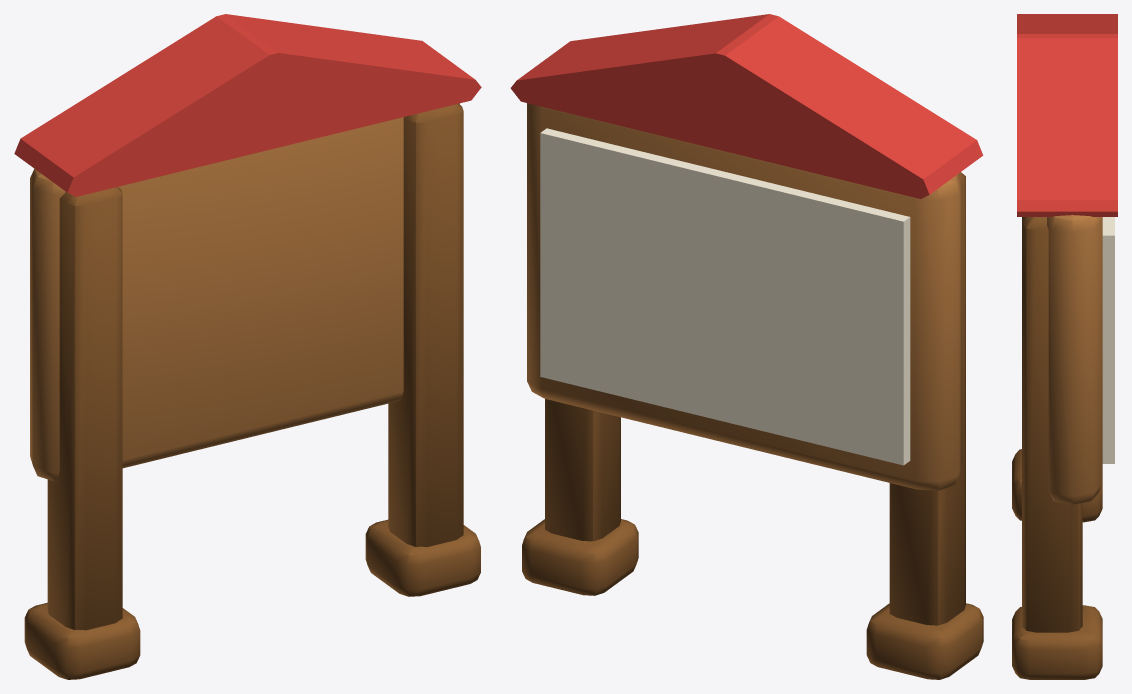
Rendered from Plot_SlotSign.glb.
3 renders of one model, left to right at view 1: azimuth 30°, elevation 25°; view 2: azimuth 150°, elevation 25°; view 3: azimuth 270°, elevation 25°, orthographic. The views are drawn at different scales.
Visible parts, largest first — view 1: Board_B5793F, Post_8A5A2B, Roof_E0453C; view 2: Face_FFF6E0, Roof_E0453C, Board_B5793F, Post_8A5A2B; view 3: Post_8A5A2B, Roof_E0453C, Board_B5793F, Face_FFF6E0.
Boxes of the visible parts, x1=… form: Board_B5793F: x1=30, y1=103, x2=459, y2=481; Post_8A5A2B: x1=24, y1=103, x2=480, y2=679; Roof_E0453C: x1=14, y1=14, x2=481, y2=196; Face_FFF6E0: x1=540, y1=128, x2=910, y2=465; Roof_E0453C: x1=510, y1=14, x2=983, y2=198; Board_B5793F: x1=527, y1=103, x2=962, y2=490; Post_8A5A2B: x1=522, y1=172, x2=983, y2=679; Post_8A5A2B: x1=1012, y1=217, x2=1102, y2=679; Roof_E0453C: x1=1017, y1=14, x2=1117, y2=216; Board_B5793F: x1=1047, y1=215, x2=1102, y2=504; Face_FFF6E0: x1=1102, y1=217, x2=1114, y2=463.
Size of the model in its own units: 4.6 by 6.02 by 1.05.
